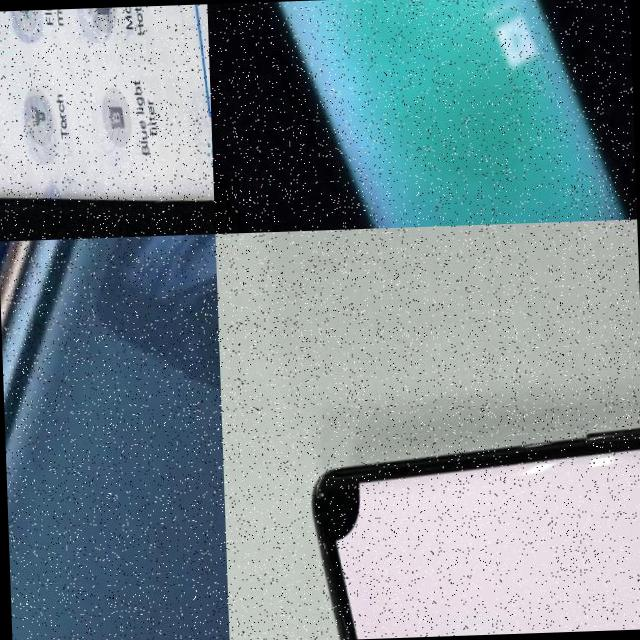dead pixel: (284, 412, 394, 609)
